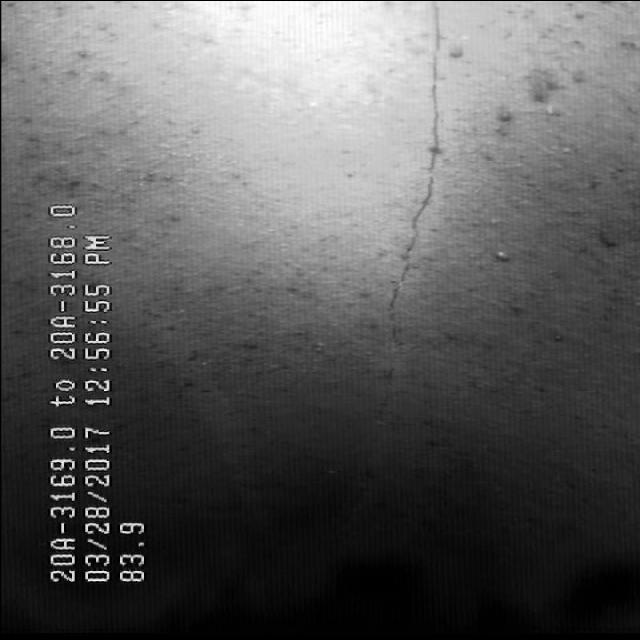Crack: (346, 48, 478, 418)
